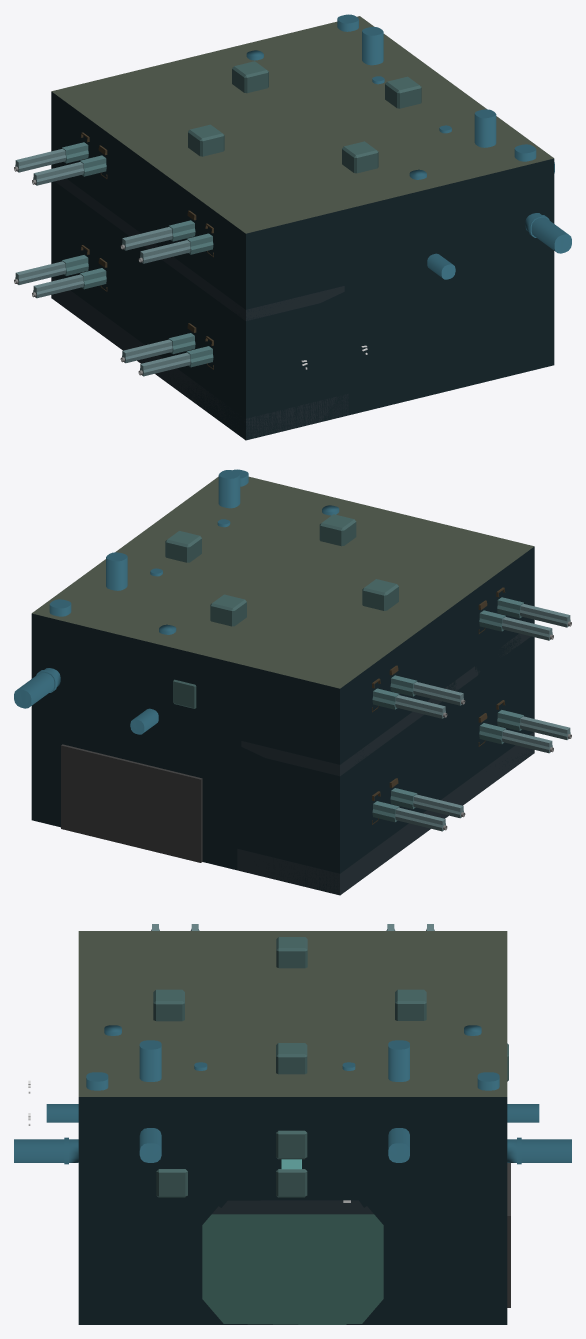
The model's file is gun_room (1).fbx.
3 renders of one model, top to bottom at view 1: azimuth 30°, elevation 25°; view 2: azimuth 150°, elevation 25°; view 3: azimuth 270°, elevation 25°, orthographic. The views are drawn at different scales.
Parts seen in each view (by area): view 1: wall 2.003, ceiiling.001, wall 2.001, Cube.052, Cube.047, Cube.046, Cube.045, Cube.054, Cube.053, Cube.009, Cube.011, Cube.004 (+2 smaller); view 2: ceiiling.001, wall 2.002, wall 2.001, Cube.048, Cube.052, Cube.047, Cube.046, Cube.045, Cube.053, Cube.054, Cube.009, Cube.011 (+4 smaller); view 3: wall1.001, ceiiling.001, ground.001, Cube.054, Cube.053, Cube.052, Cube.055, Cube.009, Cube.004, Cube.011, Cube.013, Cube.016 (+3 smaller).
Part boxes in pixels (bbox=[...]): wall 2.003: bbox=[246, 158, 554, 440]; ceiiling.001: bbox=[52, 16, 553, 233]; wall 2.001: bbox=[51, 91, 245, 440]; Cube.052: bbox=[51, 277, 348, 439]; Cube.047: bbox=[14, 132, 213, 263]; Cube.046: bbox=[14, 245, 213, 376]; Cube.045: bbox=[51, 168, 344, 320]; Cube.054: bbox=[337, 14, 571, 253]; Cube.053: bbox=[362, 26, 554, 173]; Cube.009: bbox=[342, 141, 378, 173]; Cube.011: bbox=[232, 61, 268, 93]; Cube.004: bbox=[385, 76, 421, 108]; ceiiling.001: bbox=[32, 476, 533, 688]; wall 2.002: bbox=[31, 613, 339, 894]; wall 2.001: bbox=[340, 546, 534, 873]; Cube.048: bbox=[61, 744, 202, 862]; Cube.052: bbox=[237, 732, 534, 895]; Cube.047: bbox=[372, 587, 571, 718]; Cube.046: bbox=[372, 700, 571, 831]; Cube.045: bbox=[241, 633, 530, 776]; Cube.053: bbox=[106, 470, 240, 590]; Cube.054: bbox=[14, 469, 248, 708]; Cube.009: bbox=[319, 514, 356, 546]; Cube.011: bbox=[210, 594, 246, 626]; wall1.001: bbox=[78, 1097, 507, 1324]; ceiiling.001: bbox=[78, 931, 507, 1096]; ground.001: bbox=[202, 1214, 383, 1324]; Cube.054: bbox=[14, 1072, 571, 1164]; Cube.053: bbox=[139, 1040, 409, 1162]; Cube.052: bbox=[212, 1200, 373, 1214]; Cube.055: bbox=[46, 1025, 539, 1122]; Cube.009: bbox=[153, 989, 184, 1021]; Cube.004: bbox=[276, 1043, 307, 1074]; Cube.011: bbox=[395, 989, 426, 1020]; Cube.013: bbox=[276, 937, 307, 968]; Cube.016: bbox=[276, 1130, 307, 1159].
Bounding box in the file's own units: 3165 × 1751 × 3399.
